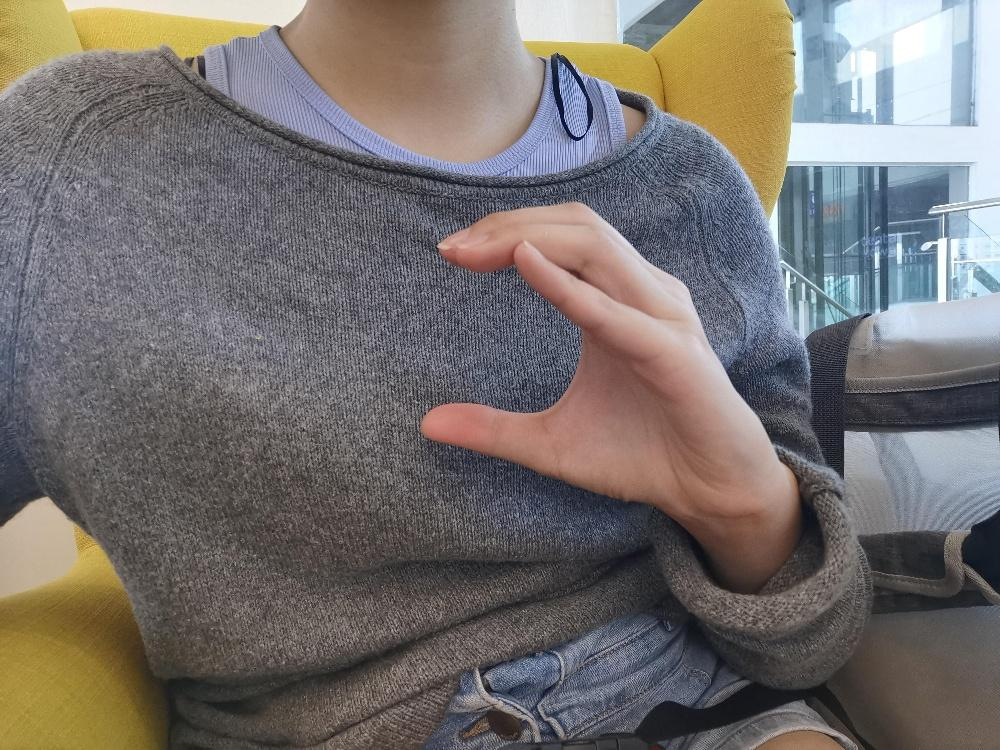c: (415, 198, 780, 519)
